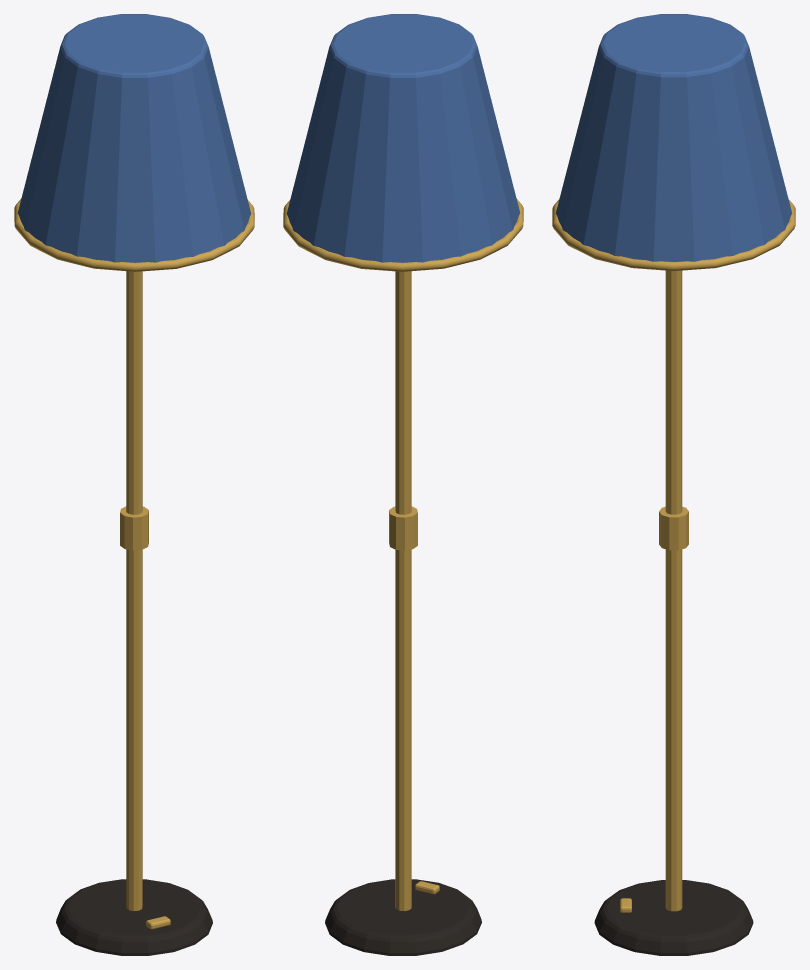
Rendered from hh_cat_floor_lamp_v.glb.
3 renders of one model, left to right at view 1: azimuth 30°, elevation 25°; view 2: azimuth 150°, elevation 25°; view 3: azimuth 270°, elevation 25°, orthographic.
Visible parts, largest first — view 1: shade, pole, base, shade_trim, pole_joint; view 2: shade, pole, base, shade_trim, pole_joint; view 3: shade, pole, base, shade_trim, pole_joint.
Part boxes in pixels (<box>): shade: <box>17,14,251,262</box>; pole: <box>126,271,142,910</box>; base: <box>56,879,212,955</box>; shade_trim: <box>14,198,254,271</box>; pole_joint: <box>120,506,148,550</box>; shade: <box>286,14,520,262</box>; pole: <box>395,271,411,910</box>; base: <box>325,879,481,955</box>; shade_trim: <box>283,198,523,271</box>; pole_joint: <box>389,506,417,550</box>; shade: <box>555,14,792,261</box>; pole: <box>665,270,682,911</box>; base: <box>594,880,753,955</box>; shade_trim: <box>552,199,795,270</box>; pole_joint: <box>659,506,688,550</box>.
Size of the model in its own units: 0.4 by 1.6 by 0.4.
